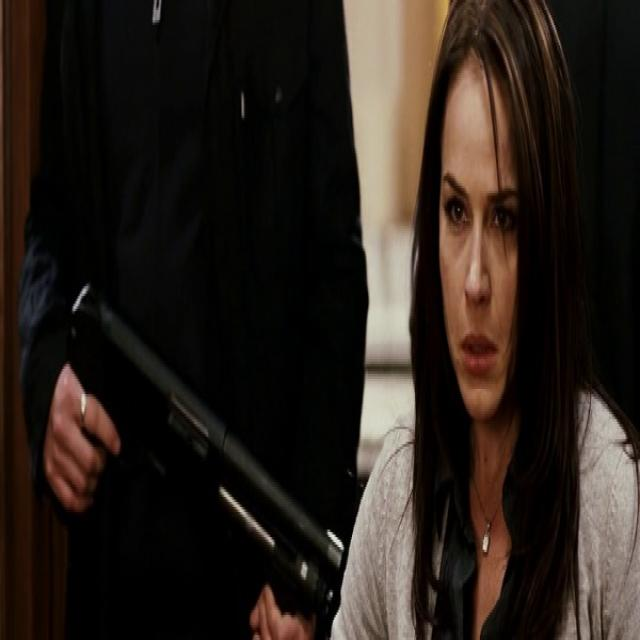rifle: (62, 282, 345, 623)
